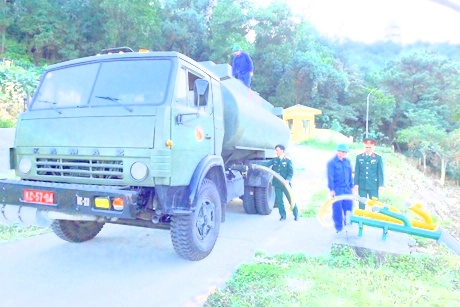plate: (20, 186, 61, 208)
